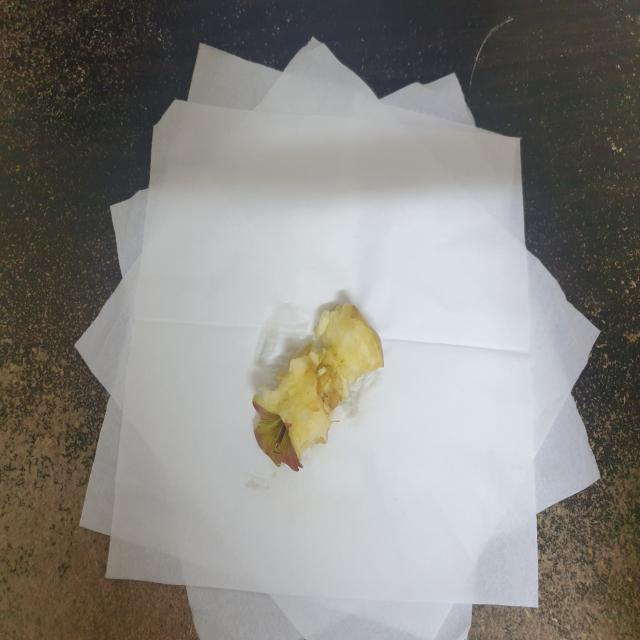apple: (244, 282, 390, 485)
